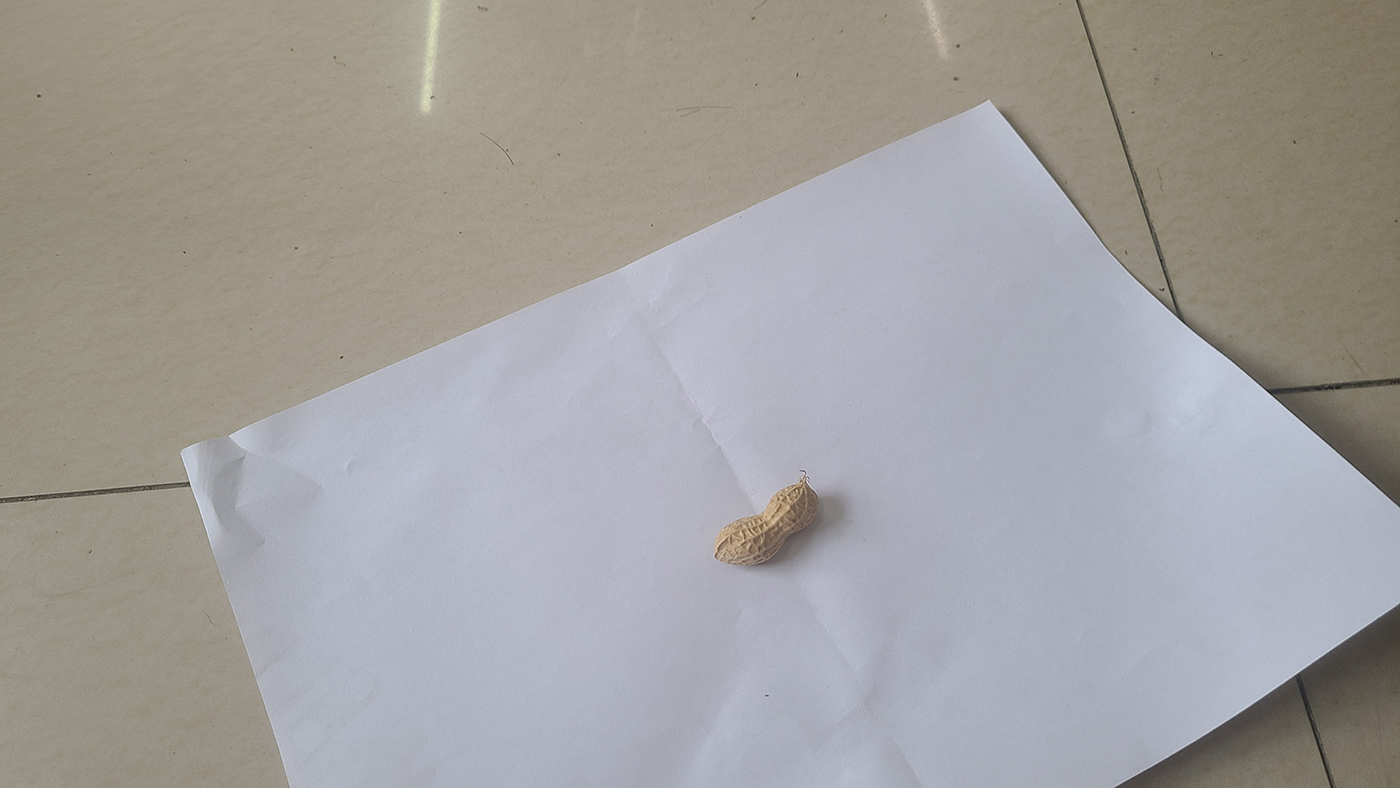h: (711, 482, 822, 570)
